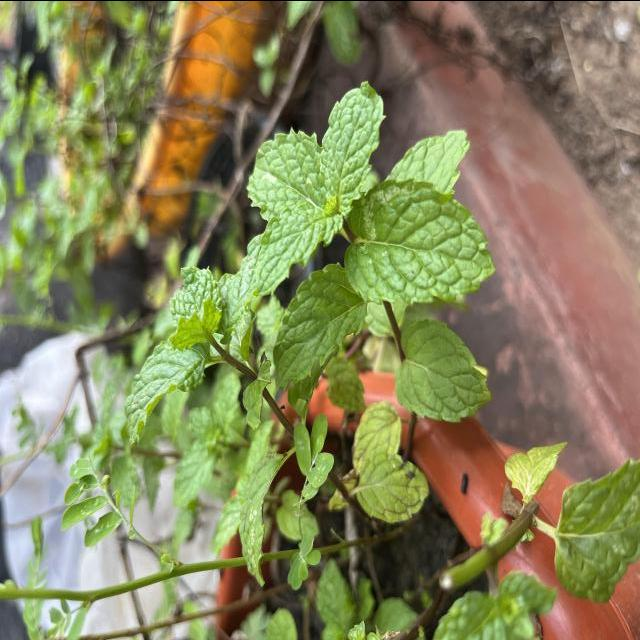Mentha spicata: (342, 176, 497, 307), (268, 260, 370, 393), (395, 314, 493, 422), (244, 125, 324, 220)
